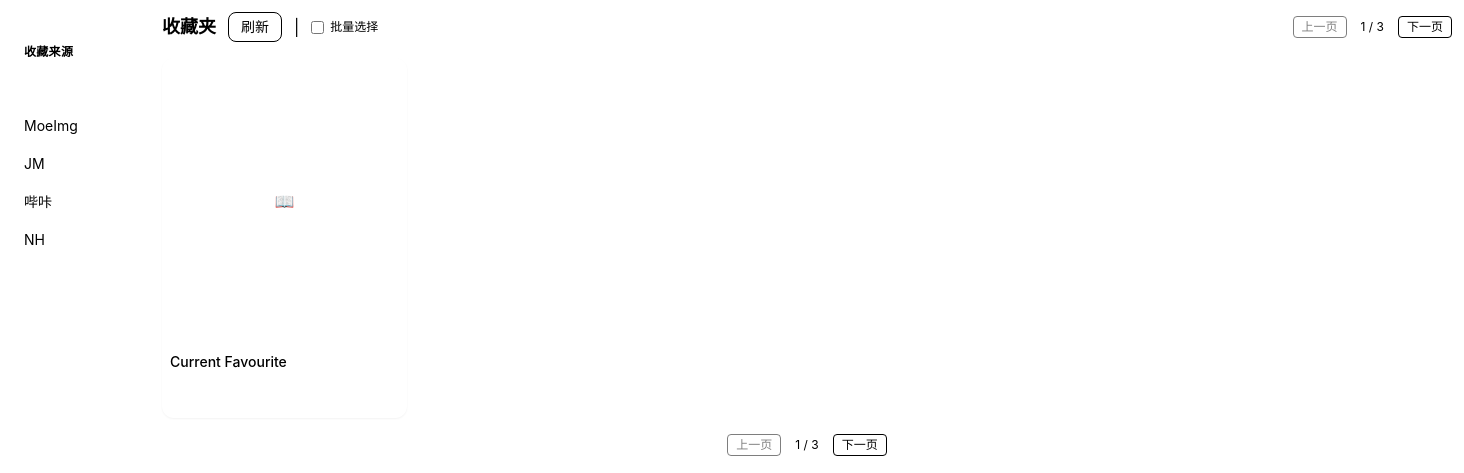
Test: FavouritesPage › shows cached favourites page immediately and refreshes it in background
The image size is (1464, 473).
Click the button "下一页" in the row of "批量选择" at {"x": 1425, "y": 27}, box [1398,16,1452,38]
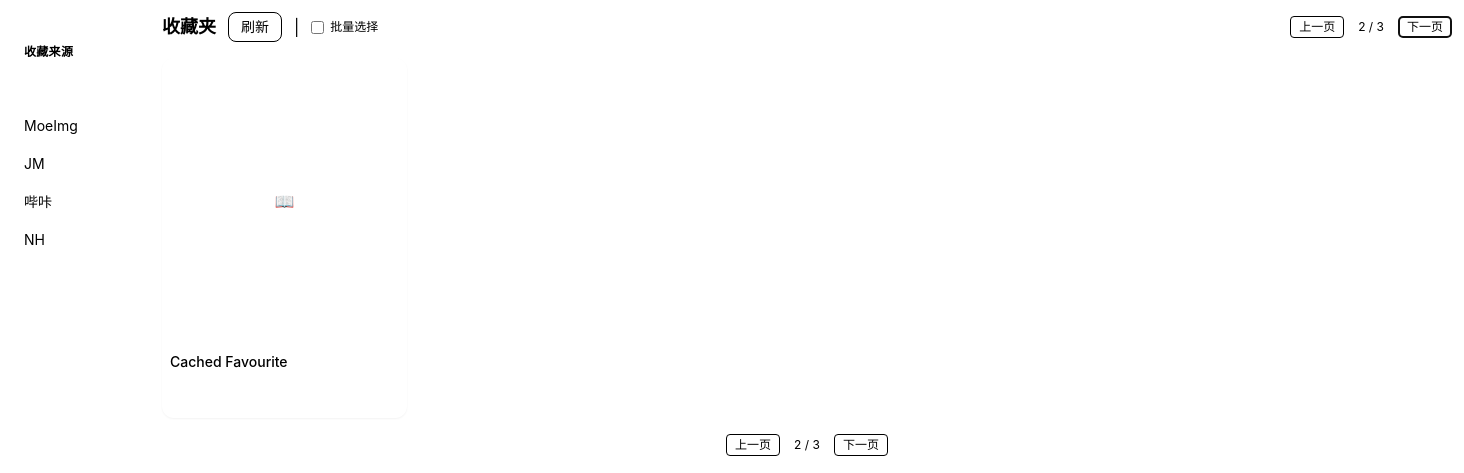
expect the heading "Cached Favourite" is shown: met, box [170,353,288,370]
